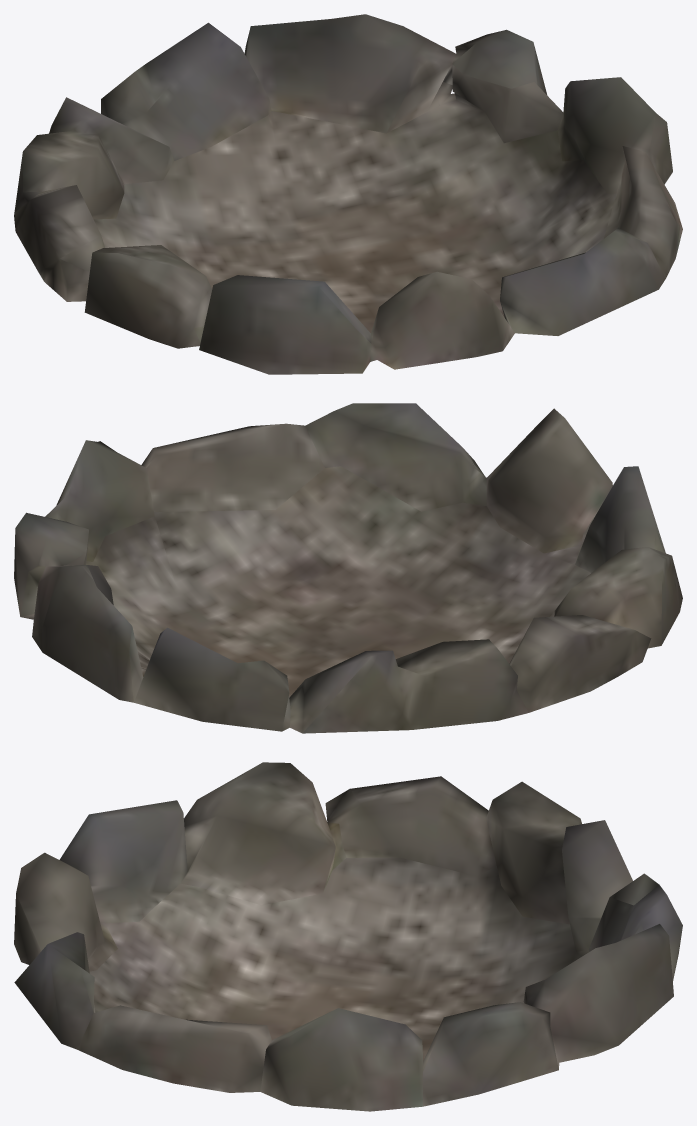
The model's file is stone_fire_pit_lod2.glb.
3 views of the same model, one above another, from view 1: azimuth 30°, elevation 25°; view 2: azimuth 150°, elevation 25°; view 3: azimuth 270°, elevation 25° (orthographic).
Visible parts, largest first — view 1: stone_fire_pit; view 2: stone_fire_pit; view 3: stone_fire_pit.
Boxes of the visible parts, x1=… form: stone_fire_pit: x1=14, y1=14, x2=682, y2=374; stone_fire_pit: x1=14, y1=403, x2=682, y2=733; stone_fire_pit: x1=14, y1=762, x2=682, y2=1111.
Size of the model in its own units: 1.44 by 0.376 by 1.43.
Materials: 1 (1 with a texture image).
